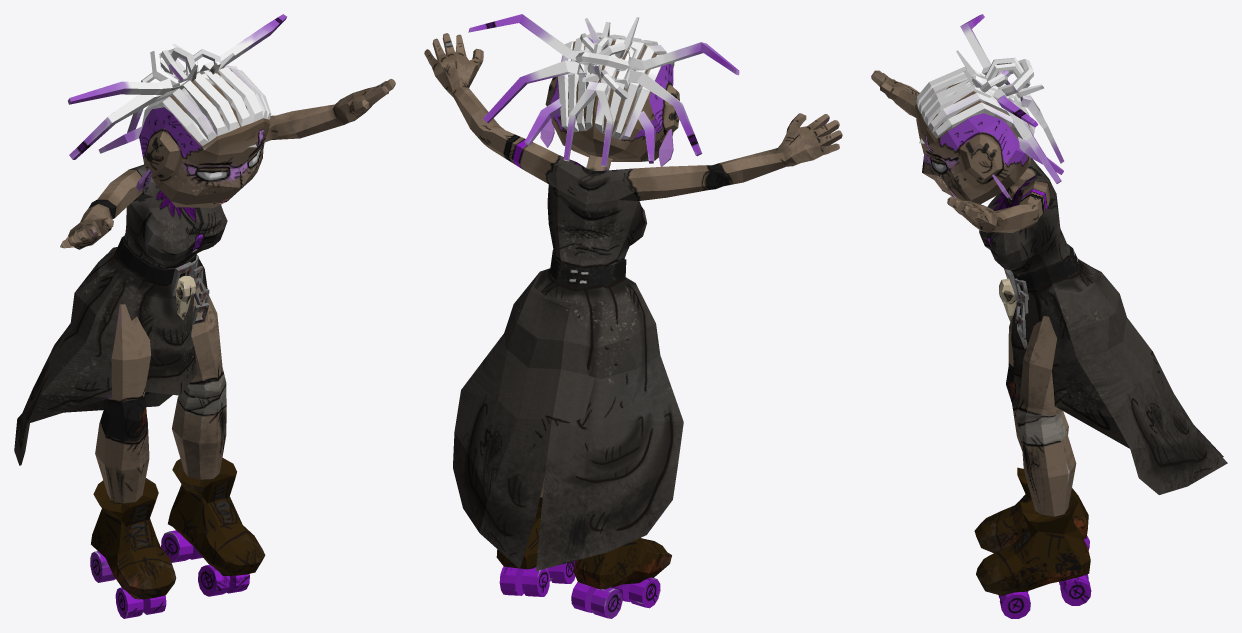
File: bruja_000194.obj
3 views of the same model, side by side, from view 1: azimuth 30°, elevation 25°; view 2: azimuth 150°, elevation 25°; view 3: azimuth 270°, elevation 25° (orthographic). The views are drawn at different scales.
Visible parts, largest first — view 1: Bruja_Plane.001; view 2: Bruja_Plane.001; view 3: Bruja_Plane.001.
Part boxes in pixels (box(x1,y1,x2,y2)): Bruja_Plane.001: box(14, 14, 395, 618); Bruja_Plane.001: box(424, 14, 842, 618); Bruja_Plane.001: box(871, 14, 1227, 618).
Bounding box in the file's own units: 11.2 × 16.16 × 9.78.
